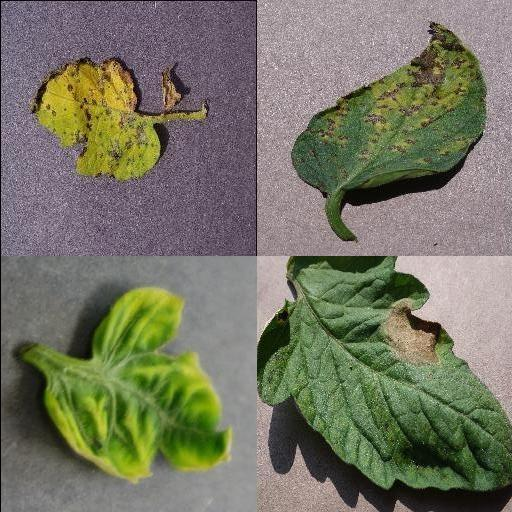Late Blight: (256, 256, 512, 492)
Septoria: (292, 23, 487, 199), (27, 57, 161, 179)
Yellow Leaf Curl Virus: (43, 287, 233, 485)
